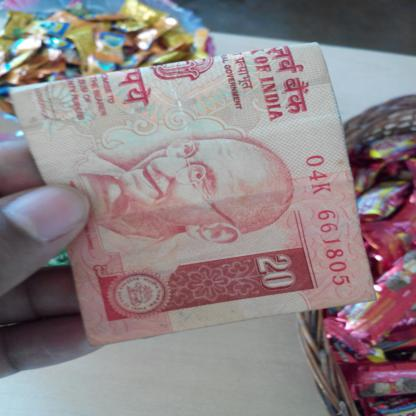Old20Front: (10, 61, 357, 321)
